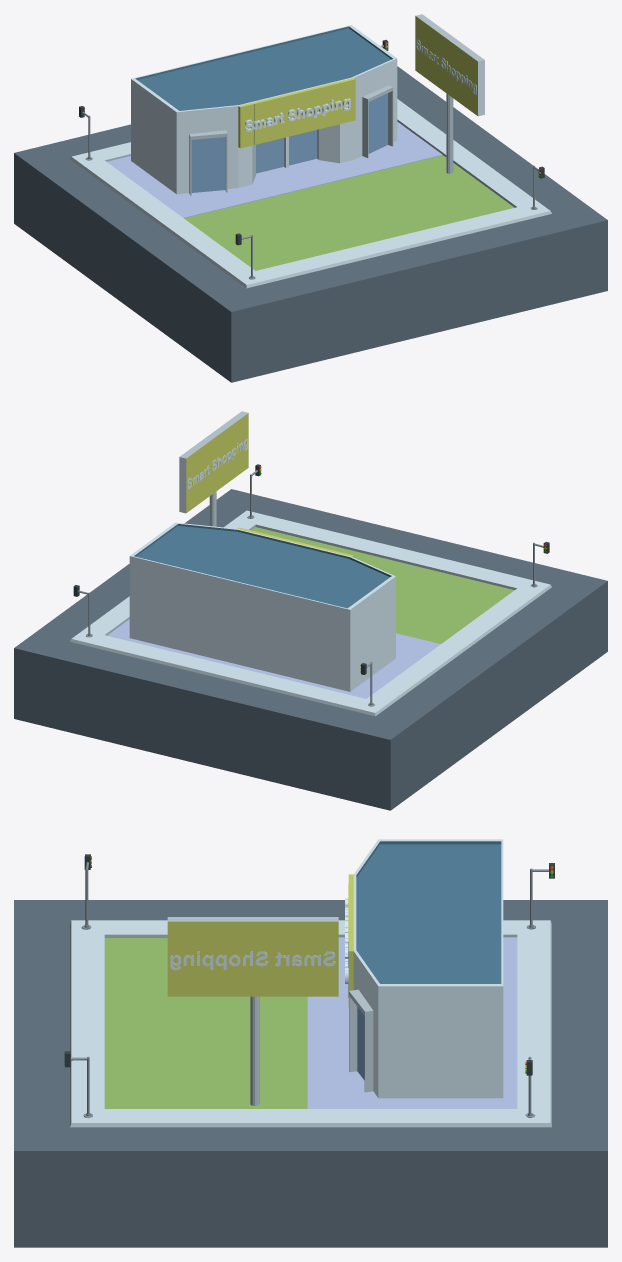
Rendered from shopping.glb.
3 views of the same model, one above another, from view 1: azimuth 30°, elevation 25°; view 2: azimuth 150°, elevation 25°; view 3: azimuth 270°, elevation 25° (orthographic). The views are drawn at different scales.
Parts seen in each view (by area): view 1: Cube.001, Cube, Cube.003, Cube.015, Cube.002, Text, Cylinder; view 2: Cube.001, Cube, Cube.002, Cube.003; view 3: Cube.001, Cube, Cube.002, Cube.003, Cube.015, Text.001, Cylinder.
Part boxes in pixels (x1=…): Cube.001: x1=14, y1=66, x2=607, y2=382; Cube: x1=131, y1=25, x2=397, y2=194; Cube.003: x1=107, y1=122, x2=442, y2=218; Cube.015: x1=189, y1=85, x2=393, y2=195; Cube.002: x1=415, y1=14, x2=484, y2=116; Text: x1=244, y1=98, x2=350, y2=131; Cylinder: x1=446, y1=93, x2=453, y2=173; Cube.001: x1=14, y1=489, x2=607, y2=810; Cube: x1=129, y1=522, x2=395, y2=691; Cube.002: x1=179, y1=411, x2=248, y2=513; Cube.003: x1=107, y1=619, x2=440, y2=698; Cube.001: x1=14, y1=900, x2=607, y2=1247; Cube: x1=348, y1=839, x2=503, y2=1098; Cube.002: x1=167, y1=917, x2=338, y2=996; Cube.003: x1=307, y1=937, x2=517, y2=1108; Cube.015: x1=349, y1=989, x2=373, y2=1092; Text.001: x1=170, y1=951, x2=335, y2=970; Cylinder: x1=250, y1=996, x2=259, y2=1105.
Bounding box in the file's own units: 17.05 × 8.91 × 17.05.
